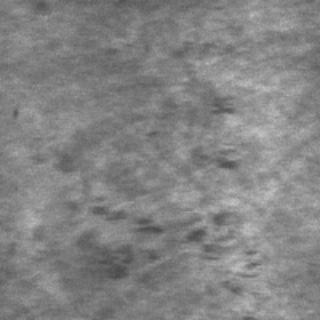rolled pit: (44, 197, 264, 296), (152, 39, 236, 170)
